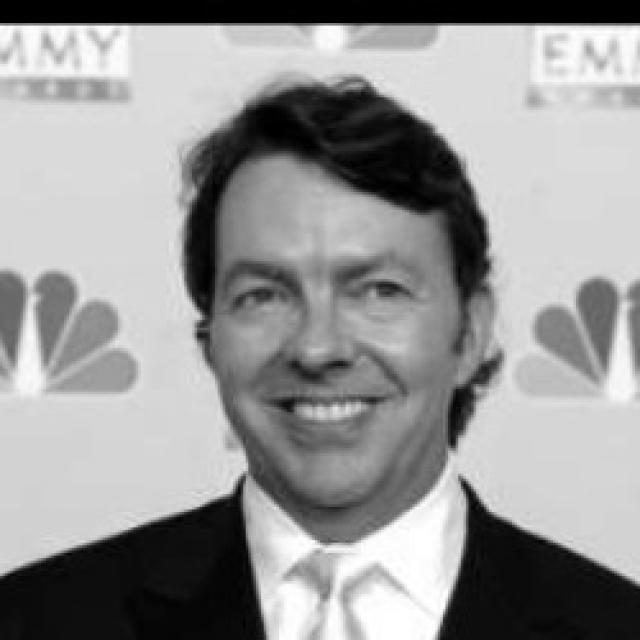real: (186, 82, 516, 518), (215, 266, 433, 331)
